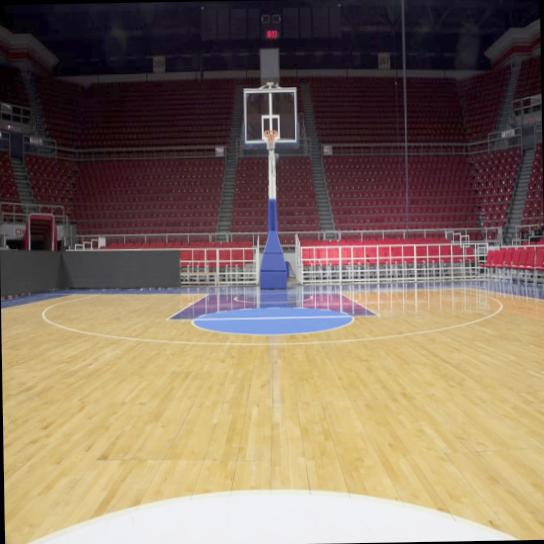basketball-hoop: (264, 130, 278, 150)
